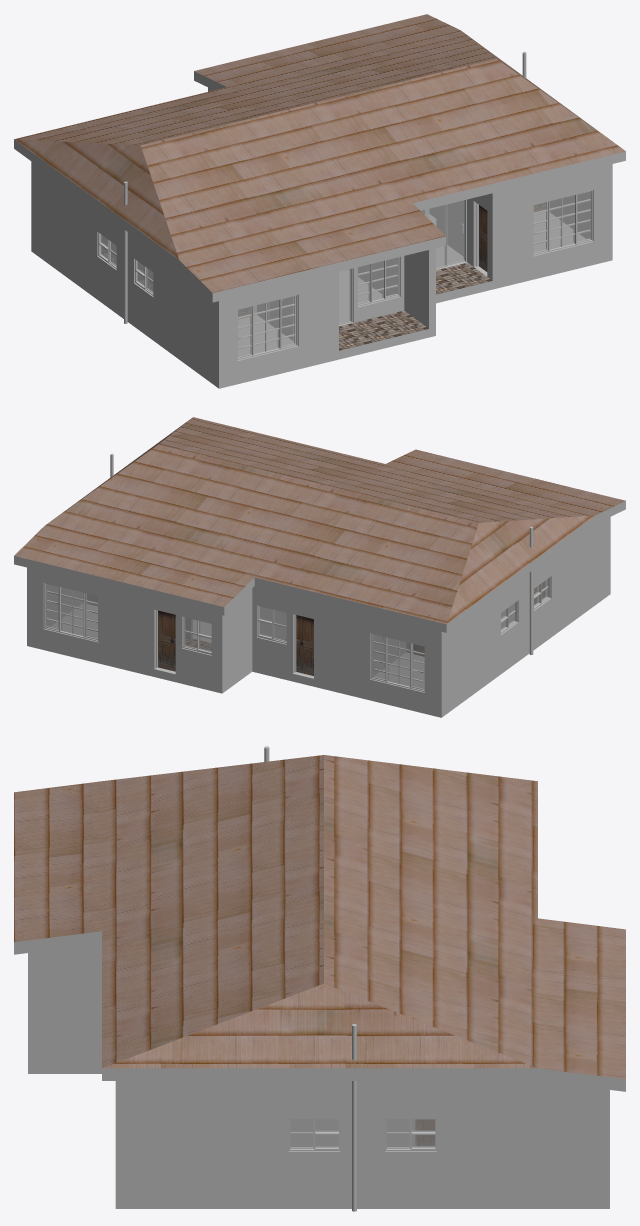
Rendered from derpyHouse.fbx.
3 views of the same model, one above another, from view 1: azimuth 30°, elevation 25°; view 2: azimuth 150°, elevation 25°; view 3: azimuth 270°, elevation 25° (orthographic). The views are drawn at different scales.
Parts seen in each view (by area): view 1: roof1, wall01, wall02, middle_wall, floor01, window (×2), main_floor01, floor02, left_window (×2), right_window (×2), door_fixed (×2), frame (×2) (+6 smaller); view 2: roof1, wall01, wall02, middle_wall, window (×2), left_window (×2), right_window (×2), frame (×2), main_floor02, door06, door07, main_floor01 (+1 smaller); view 3: roof1, wall02, middle_wall, inner_wall02, open_window (×2), pipes, window.
Boxes of the visible parts, x1,y1,x2,y2 form: roof1: (14, 14, 625, 302); wall01: (31, 161, 404, 388); wall02: (423, 164, 612, 289); middle_wall: (208, 87, 435, 337); floor01: (339, 310, 428, 359); window (×2): (254, 195, 574, 353); main_floor01: (238, 270, 381, 356); floor02: (436, 262, 492, 303); left_window (×2): (238, 191, 591, 358); right_window (×2): (281, 201, 547, 347); door_fixed (×2): (339, 204, 447, 324); frame (×2): (237, 190, 593, 360); roof1: (14, 417, 625, 632); wall01: (252, 517, 610, 717); wall02: (27, 567, 216, 691); middle_wall: (216, 588, 286, 693); window (×2): (61, 587, 409, 686); left_window (×2): (85, 593, 385, 680); right_window (×2): (46, 583, 424, 690); frame (×2): (44, 583, 424, 692); main_floor02: (51, 603, 211, 650); door06: (158, 610, 175, 671); door07: (296, 615, 313, 675); main_floor01: (285, 639, 424, 688); roof1: (14, 755, 625, 1091); wall02: (115, 1081, 609, 1208); middle_wall: (28, 943, 101, 1073); inner_wall02: (291, 1119, 413, 1146); open_window (×2): (290, 1119, 410, 1148); pipes: (264, 746, 356, 1211); window: (411, 1119, 435, 1147).
Bounding box in the file's own units: 1.16 × 0.3779 × 1.04.
